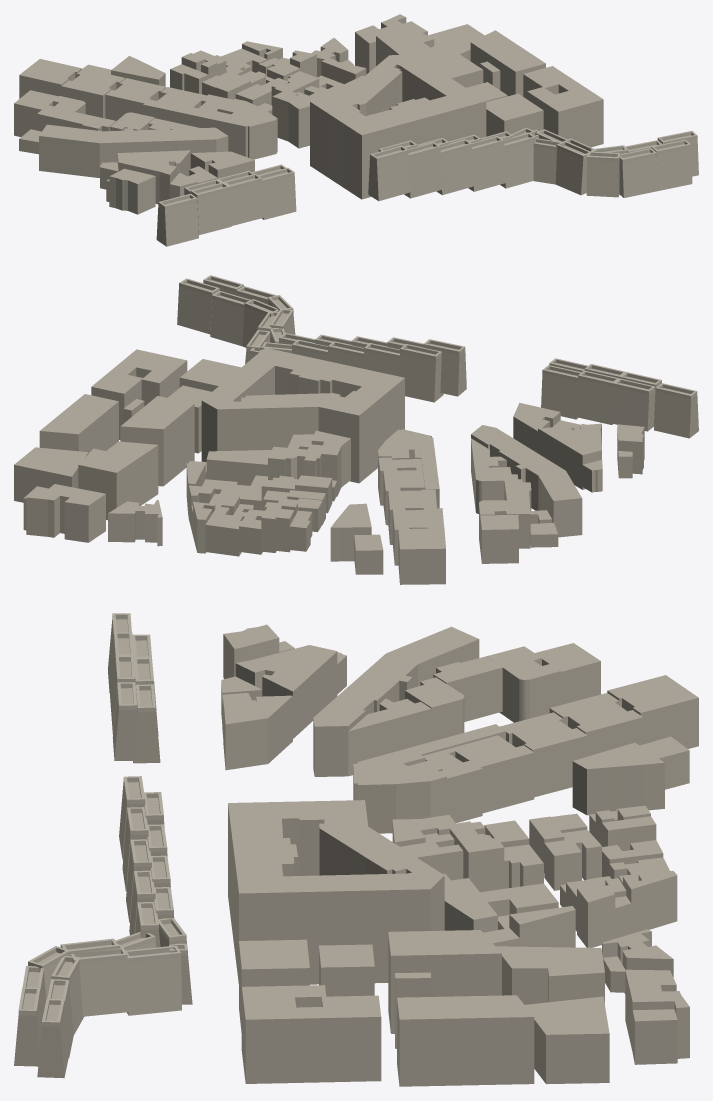
The model's file is bormla_60_31_collision.glb.
3 views of the same model, one above another, from view 1: azimuth 30°, elevation 25°; view 2: azimuth 150°, elevation 25°; view 3: azimuth 270°, elevation 25° (orthographic). The views are drawn at different scales.
Visible parts, largest first — view 1: geometry_0; view 2: geometry_0; view 3: geometry_0.
Part boxes in pixels (left/top/right/bottom): geometry_0: left=14, top=14, right=698, bottom=246; geometry_0: left=14, top=275, right=698, bottom=584; geometry_0: left=14, top=613, right=698, bottom=1086.
Size of the model in its own units: 190 by 34.64 by 151.
